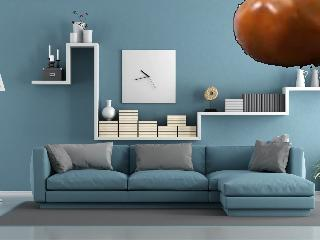potato: (232, 0, 320, 66)
